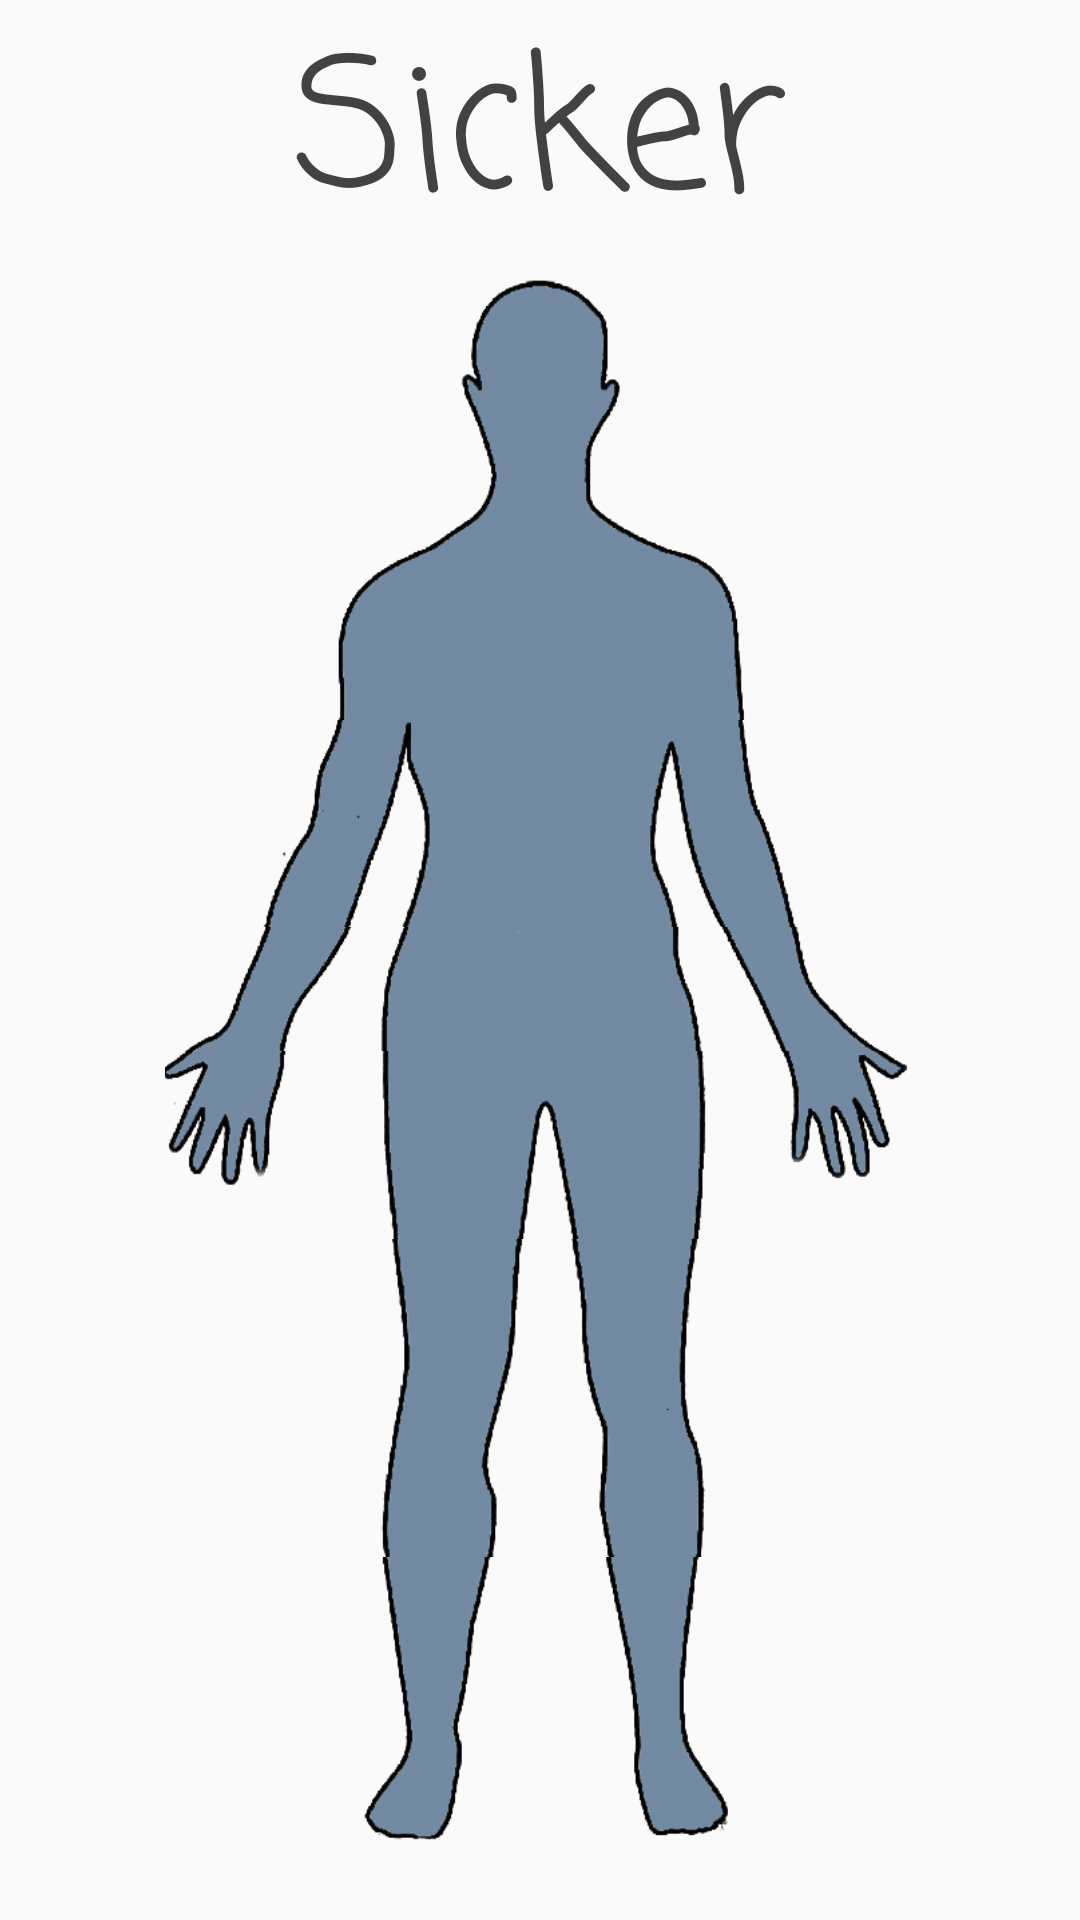

Where icons sit on this 1080px×1920px app screen, as (x1, y1, x2, y2):
head: (456, 280, 624, 528)
knee: (381, 1239, 705, 1557)
